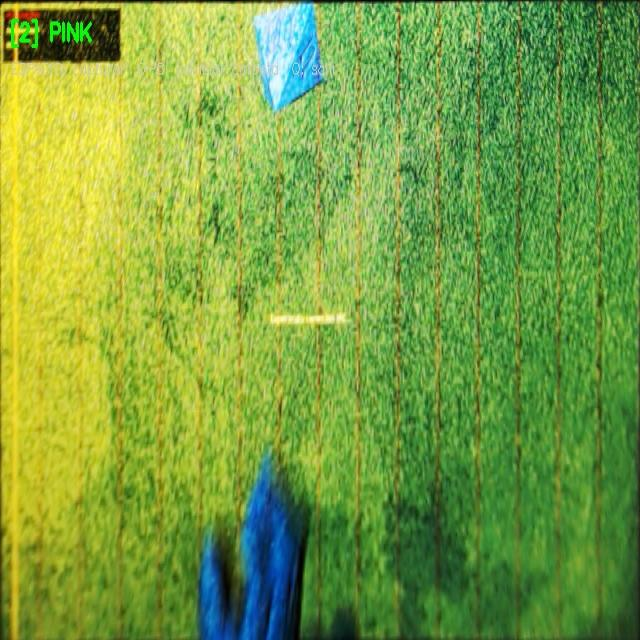pink: (256, 3, 324, 109)
